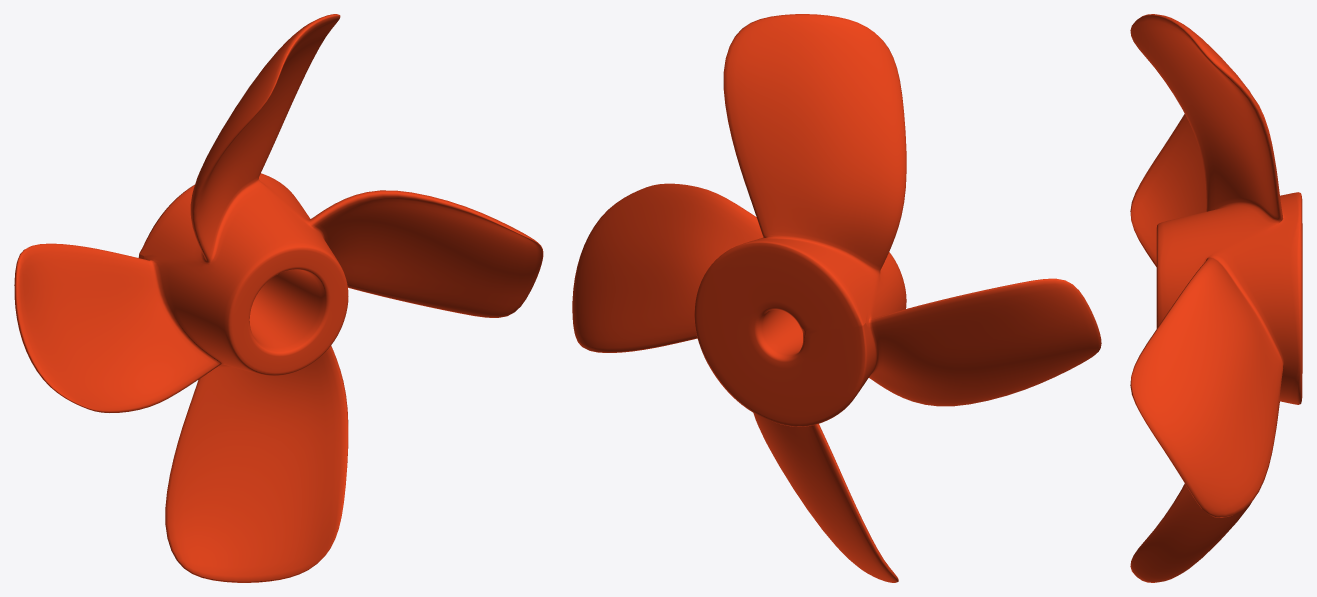
File: prof_front_4.fbx
The picture shows the model from 3 angles, left to right: view 1: azimuth 30°, elevation 25°; view 2: azimuth 150°, elevation 25°; view 3: azimuth 270°, elevation 25°; orthographic projection. The views are drawn at different scales.
Visible parts, largest first — view 1: prop poly; view 2: prop poly; view 3: prop poly.
Part boxes in pixels (x1,y1,x2,y2): prop poly: (14,14,543,582); prop poly: (572,14,1101,582); prop poly: (1130,14,1302,582).
Bounding box in the file's own units: 612 × 613 × 164.
